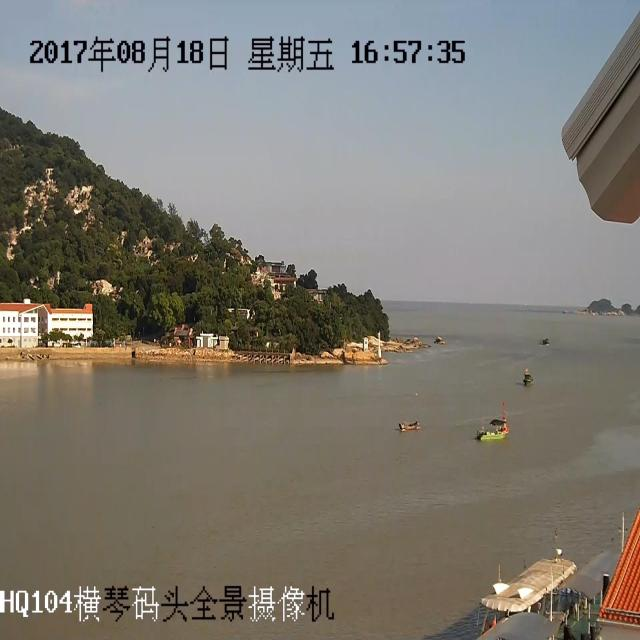fishing boat: (466, 411, 514, 448), (536, 318, 562, 360), (510, 360, 534, 395)
reef: (576, 286, 636, 319), (396, 409, 423, 436)
